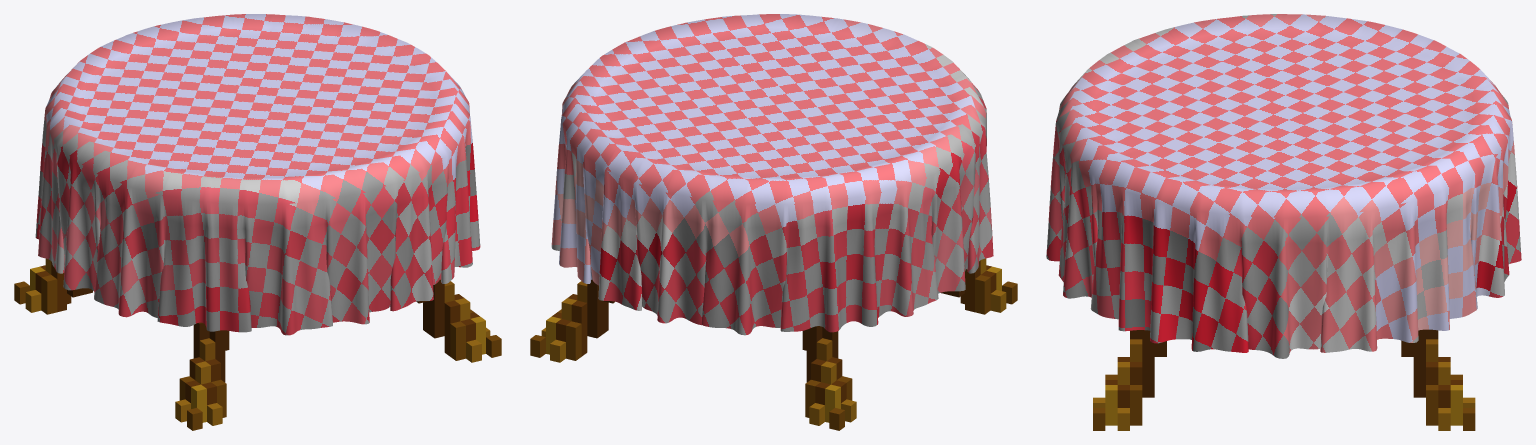
File: table_633x03.obj
3 renders of one model, left to right at view 1: azimuth 30°, elevation 25°; view 2: azimuth 150°, elevation 25°; view 3: azimuth 270°, elevation 25°, orthographic. The views are drawn at different scales.
Parts seen in each view (by area): view 1: Table_Cloth, Table; view 2: Table_Cloth, Table; view 3: Table_Cloth, Table.
Part boxes in pixels (x1=…): Table_Cloth: x1=35, y1=14, x2=480, y2=335; Table: x1=14, y1=258, x2=501, y2=430; Table_Cloth: x1=551, y1=14, x2=993, y2=335; Table: x1=530, y1=258, x2=1017, y2=430; Table_Cloth: x1=1046, y1=14, x2=1521, y2=358; Table: x1=1093, y1=329, x2=1475, y2=430.
Size of the model in its own units: 2.7 by 1.55 by 2.7.
